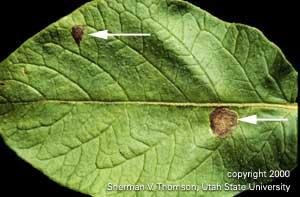Potato leaf late blight: (5, 1, 299, 197)
